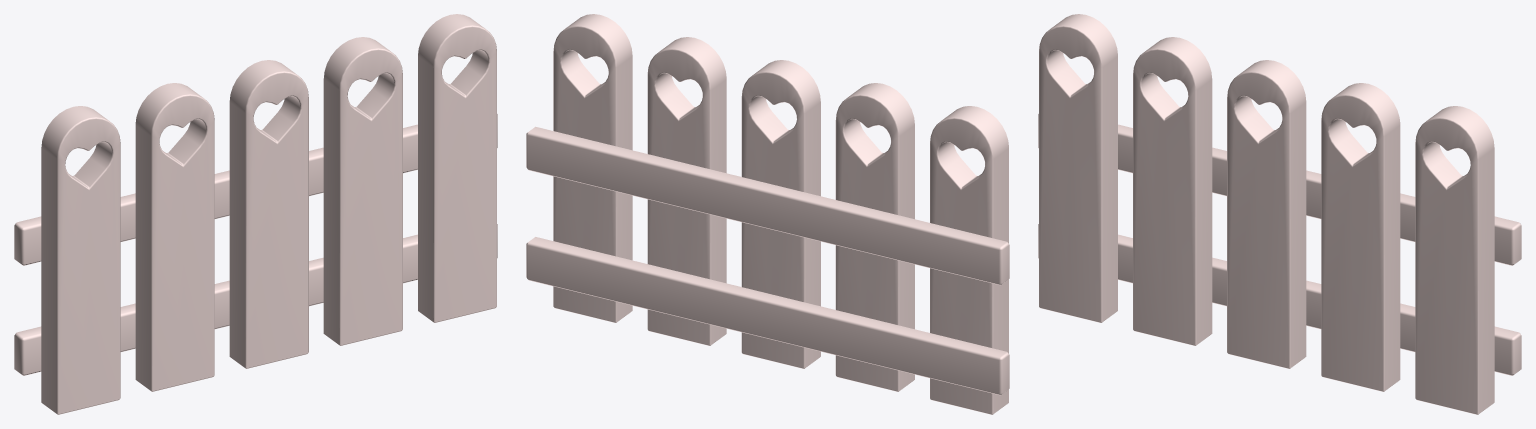
File: Town_14_Fence_1.glb
3 renders of one model, left to right at view 1: azimuth 30°, elevation 25°; view 2: azimuth 150°, elevation 25°; view 3: azimuth 330°, elevation 25°, orthographic.
Parts seen in each view (by area): view 1: Town_14_Fence_1; view 2: Town_14_Fence_1; view 3: Town_14_Fence_1.
Part boxes in pixels (x1,y1,x2,y2): Town_14_Fence_1: (14, 14, 497, 414); Town_14_Fence_1: (526, 14, 1009, 414); Town_14_Fence_1: (1038, 14, 1521, 414).
Bounding box in the file's own units: 1.77 × 1.03 × 0.171.
1 material, 1 textured.
